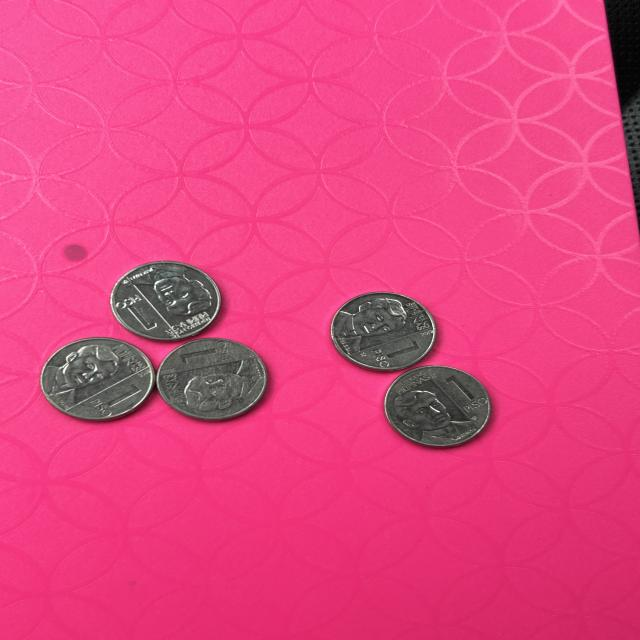1_New_Front: (443, 372, 489, 416), (86, 381, 142, 413), (369, 338, 425, 369), (113, 293, 158, 331), (172, 342, 228, 366)
